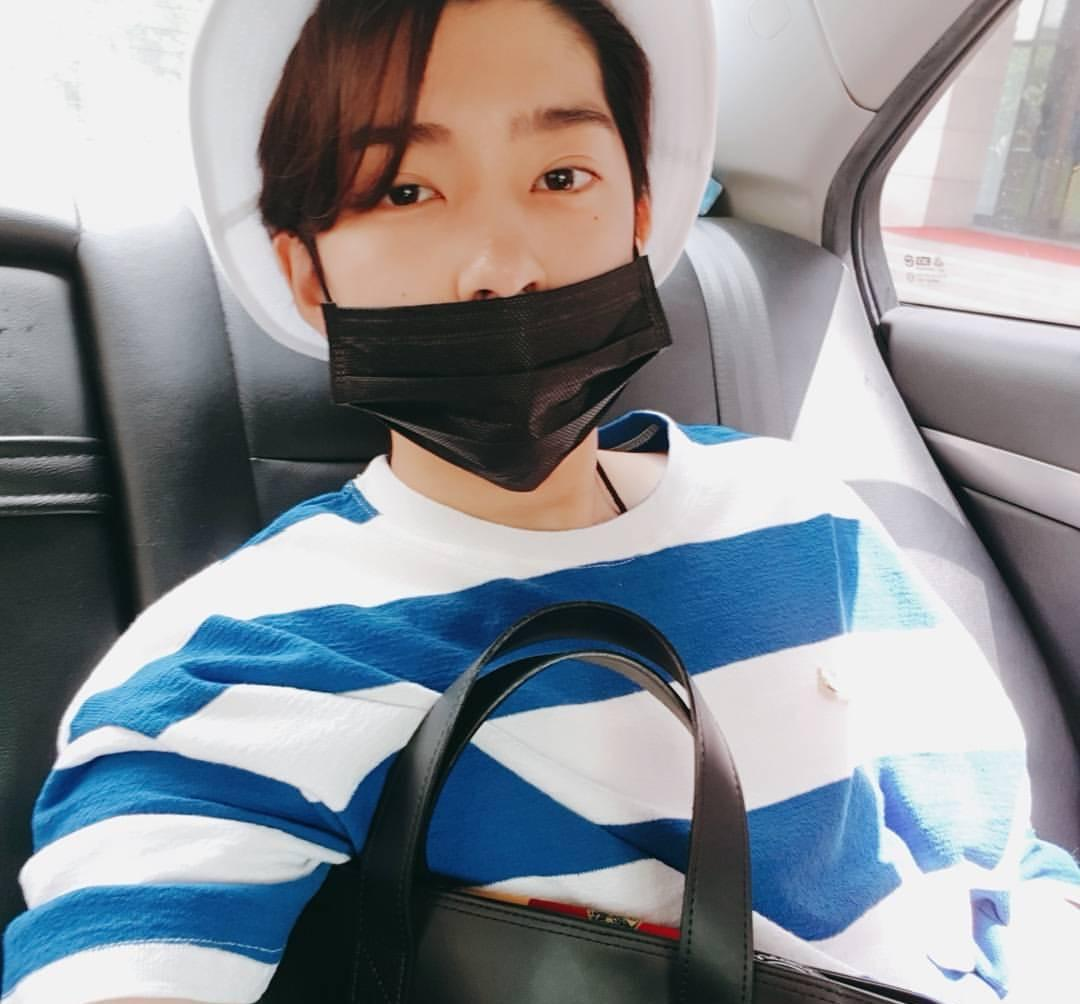WRONG: (322, 98, 666, 471)
